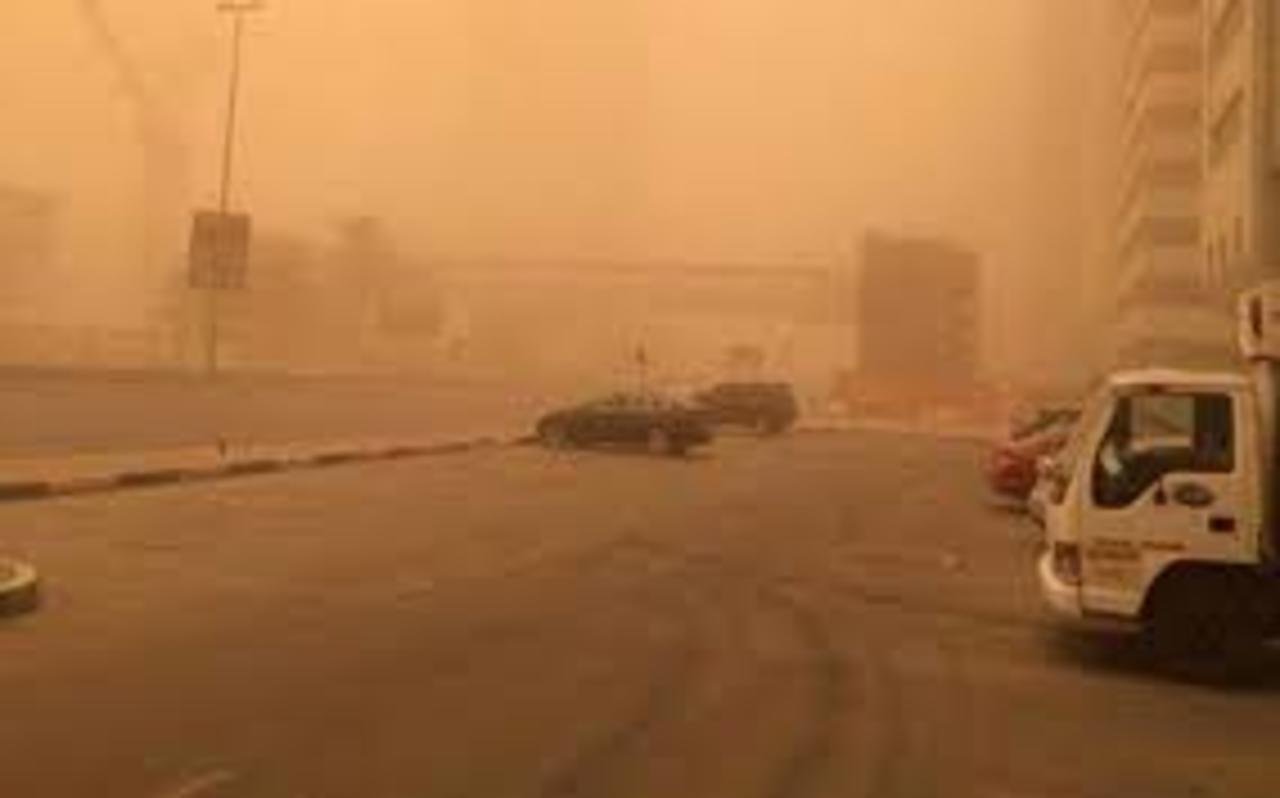car: (533, 397, 726, 455), (994, 402, 1067, 503), (677, 379, 798, 439)
truck: (1012, 361, 1275, 670)
